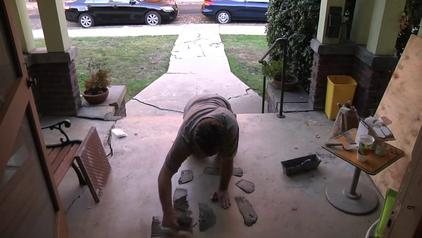sit: (395, 12, 417, 46)
